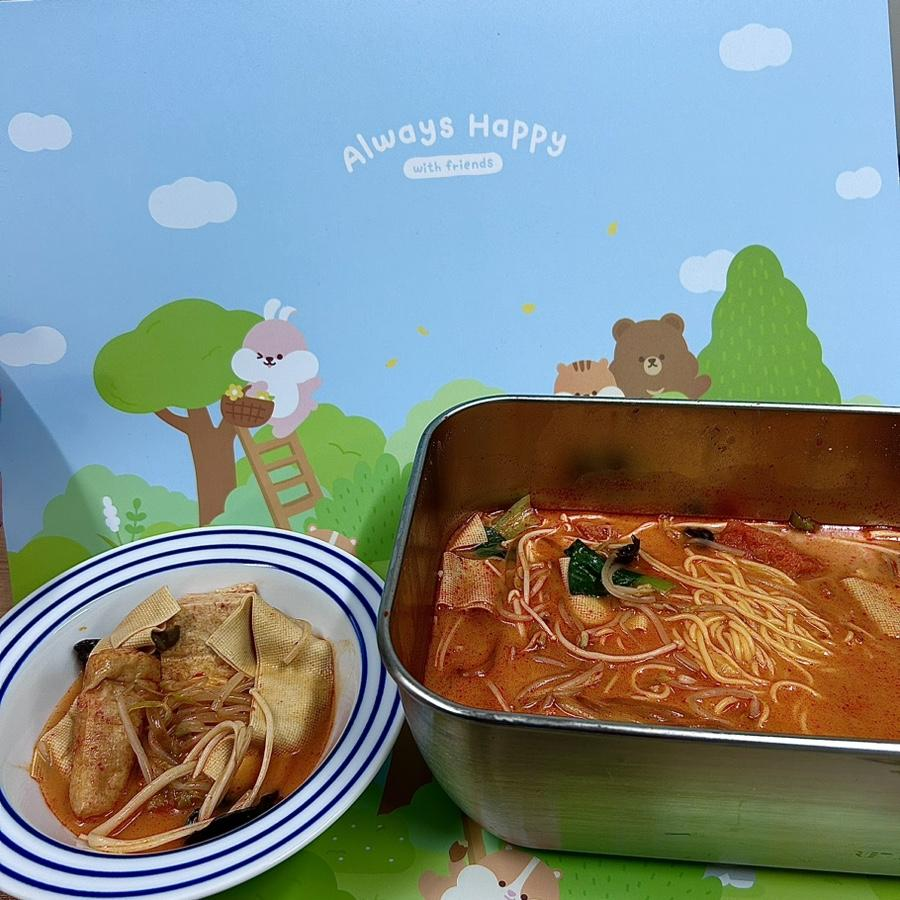Lunch Box: (378, 396, 899, 874), (0, 526, 401, 899)
